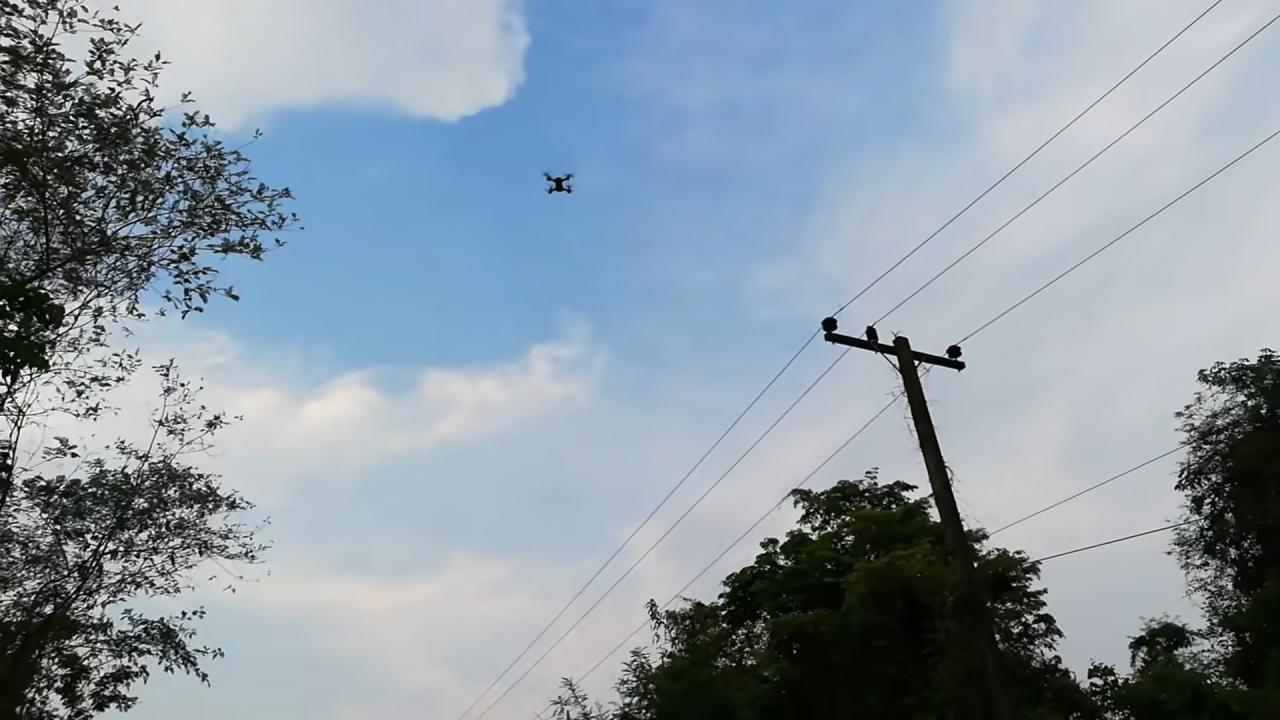Drone: (535, 163, 582, 204)
